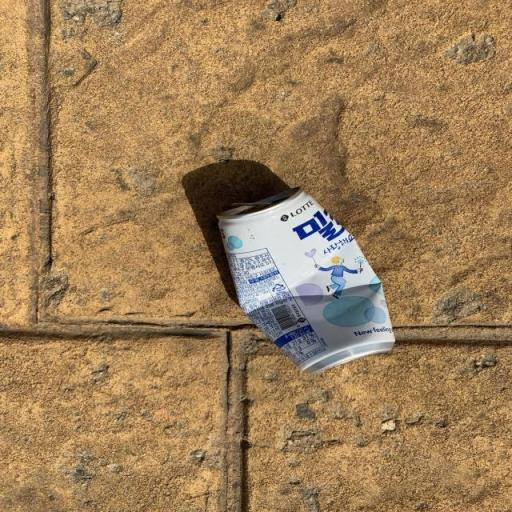metal: (181, 172, 430, 396)
